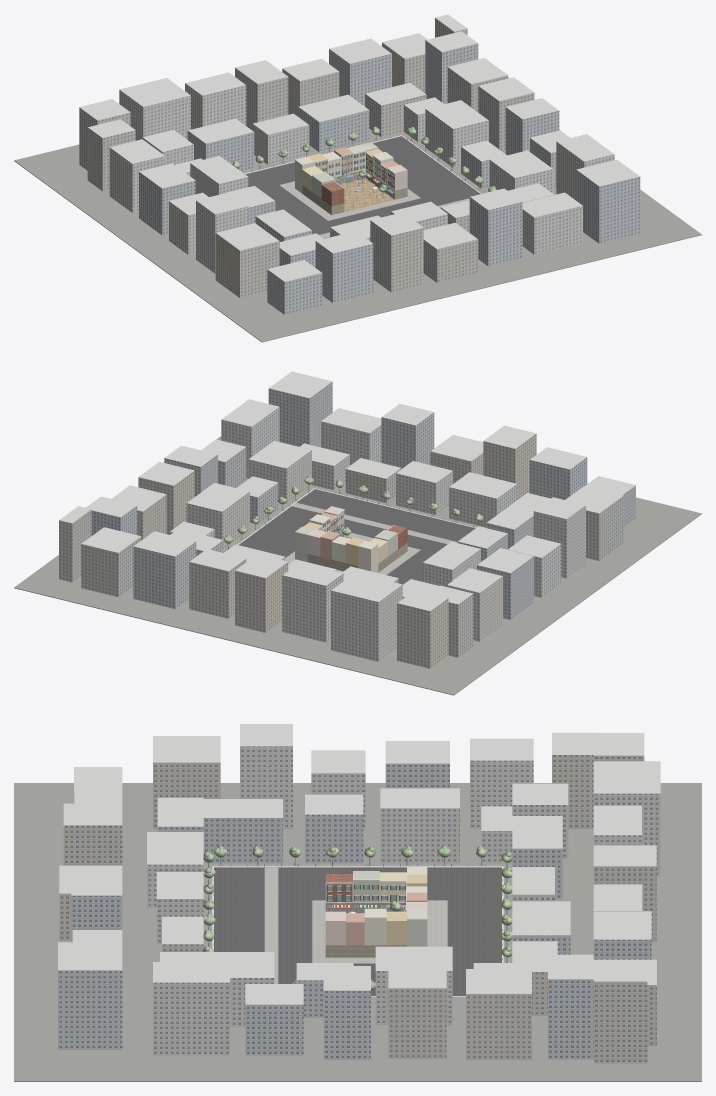
3 renders of one model, top to bottom at view 1: azimuth 30°, elevation 25°; view 2: azimuth 150°, elevation 25°; view 3: azimuth 270°, elevation 25°, orthographic. The views are drawn at different scales.
Visible parts, largest first — view 1: Geom3D (×79); view 2: Geom3D (×77); view 3: Geom3D (×88).
Part boxes in pixels (left/top/right/bottom): Geom3D (×79): left=14, top=31, right=701, bottom=342; Geom3D (×77): left=14, top=371, right=701, bottom=695; Geom3D (×88): left=14, top=724, right=701, bottom=1081.
Size of the model in its own units: 208 by 27.34 by 203.
57 materials, 13 textured.
